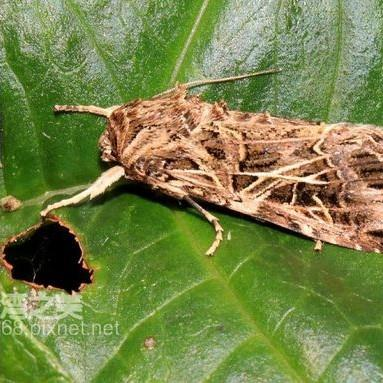Spodoptera litura: (40, 68, 383, 257)
